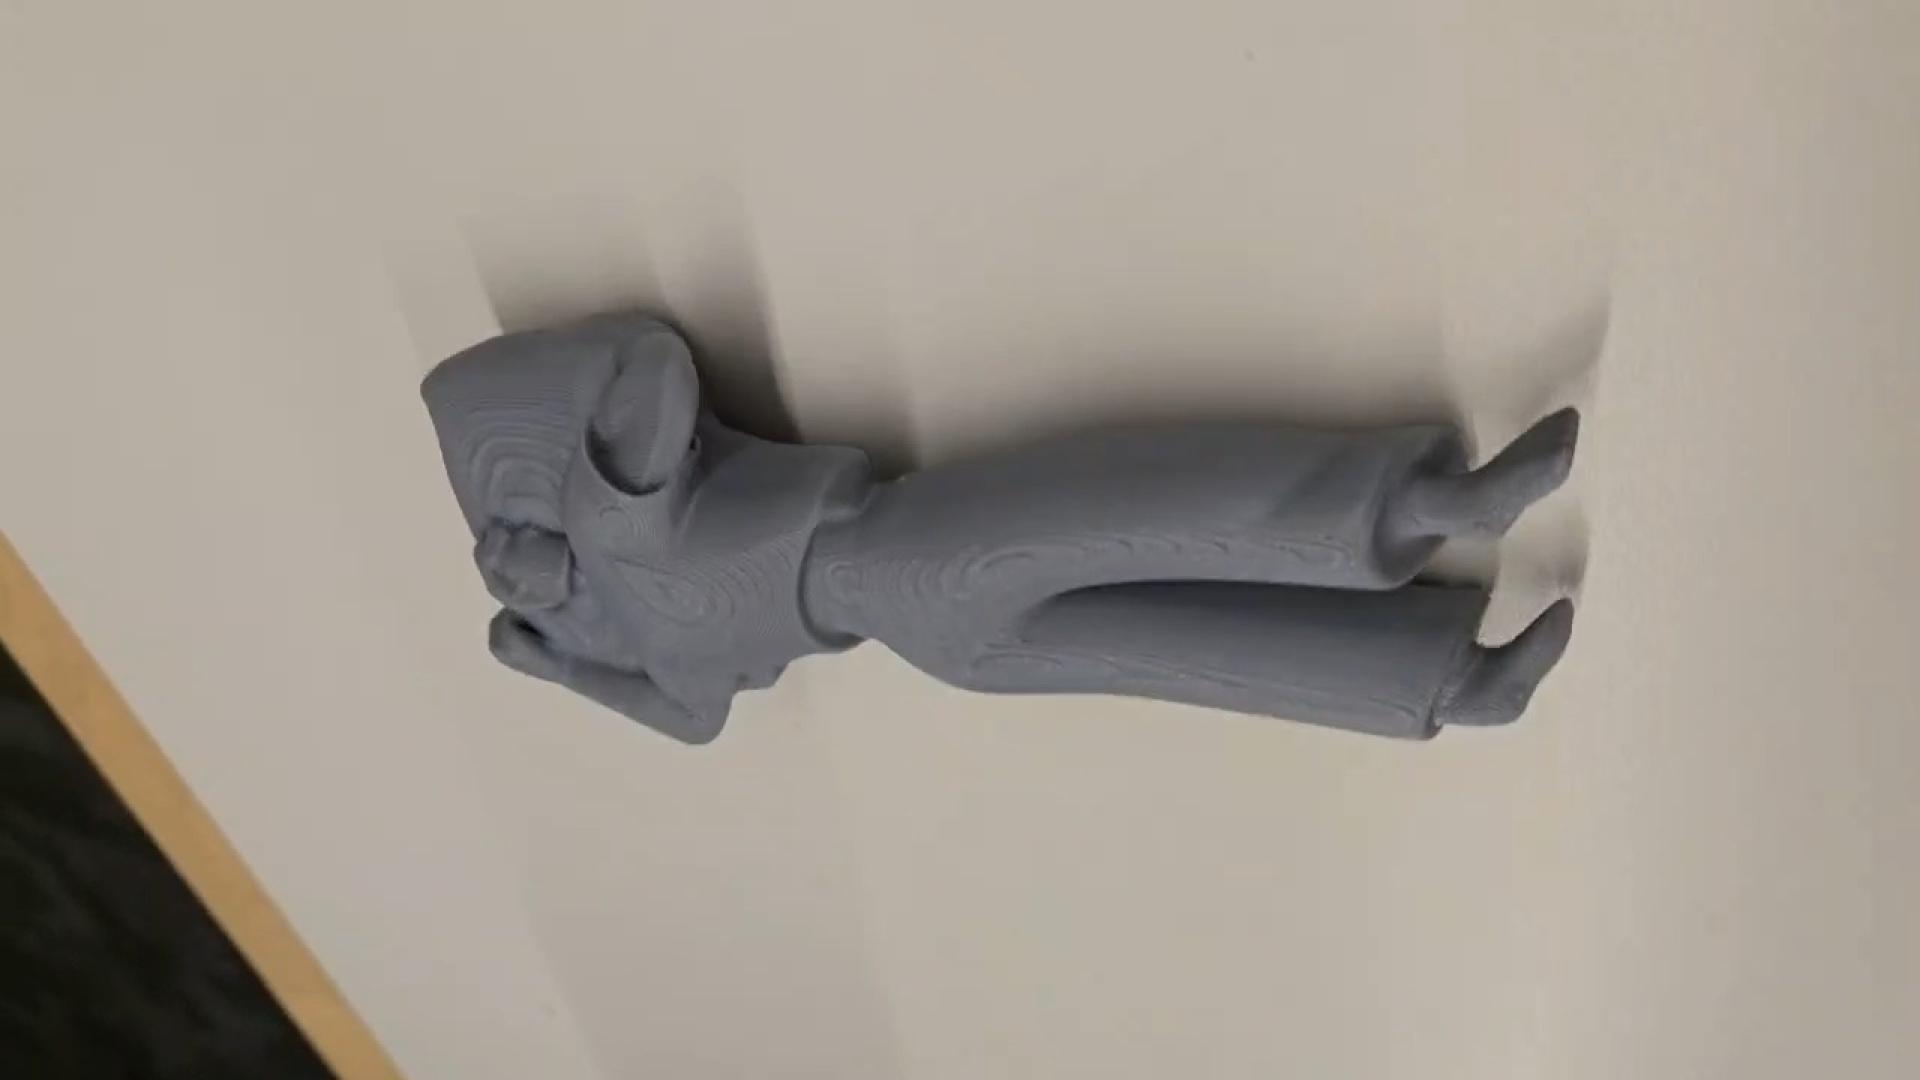Bad-style: (410, 310, 1588, 744)
